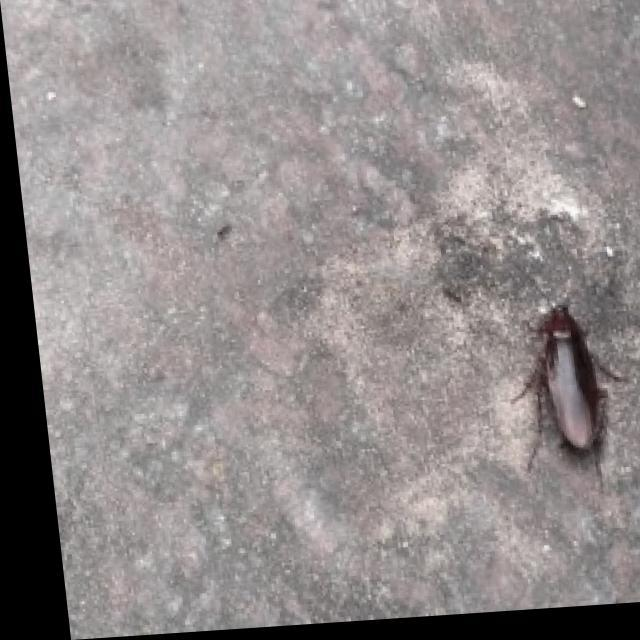cockroach: (507, 297, 626, 493)
